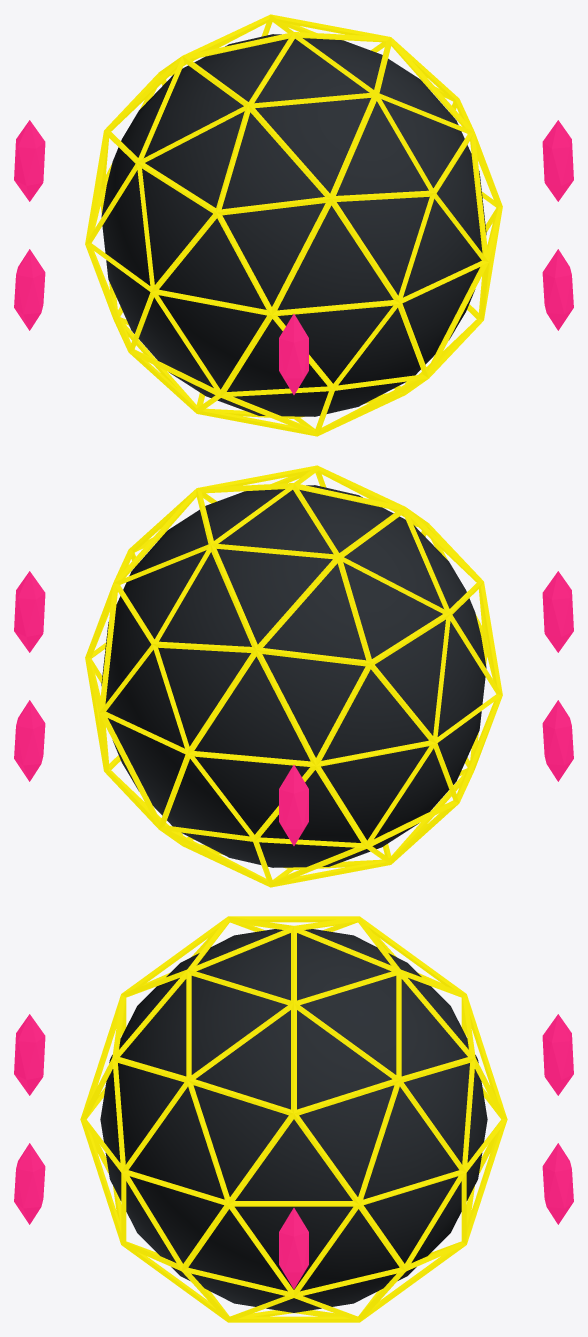
Rendered from cyber_core.glb.
3 views of the same model, one above another, from view 1: azimuth 30°, elevation 25°; view 2: azimuth 150°, elevation 25°; view 3: azimuth 270°, elevation 25° (orthographic).
Parts seen in each view (by area): view 1: Shell, Cage, Shard0, Shard2, Shard3, Shard5, Shard4; view 2: Shell, Cage, Shard0, Shard4, Shard1, Shard3, Shard2; view 3: Shell, Cage, Shard2, Shard4, Shard1, Shard5, Shard0.
Boxes of the visible parts, <box> form: Shell: <box>101,34,486,416</box>; Cage: <box>85,14,502,436</box>; Shard0: <box>542,120,573,201</box>; Shard2: <box>14,120,45,201</box>; Shard3: <box>14,249,45,330</box>; Shard5: <box>542,249,573,330</box>; Shard4: <box>279,314,308,394</box>; Shell: <box>101,485,486,867</box>; Cage: <box>85,465,502,887</box>; Shard0: <box>14,571,45,652</box>; Shard4: <box>542,571,573,652</box>; Shard1: <box>14,700,45,781</box>; Shard3: <box>542,700,573,781</box>; Shard2: <box>279,765,308,845</box>; Shell: <box>100,929,487,1312</box>; Cage: <box>80,916,507,1322</box>; Shard2: <box>542,1014,573,1095</box>; Shard4: <box>14,1014,45,1095</box>; Shard1: <box>542,1143,573,1224</box>; Shard5: <box>14,1143,45,1224</box>; Shard0: <box>279,1208,308,1288</box>.
Bounding box in the file's own units: 3.05 × 2.03 × 2.66.
